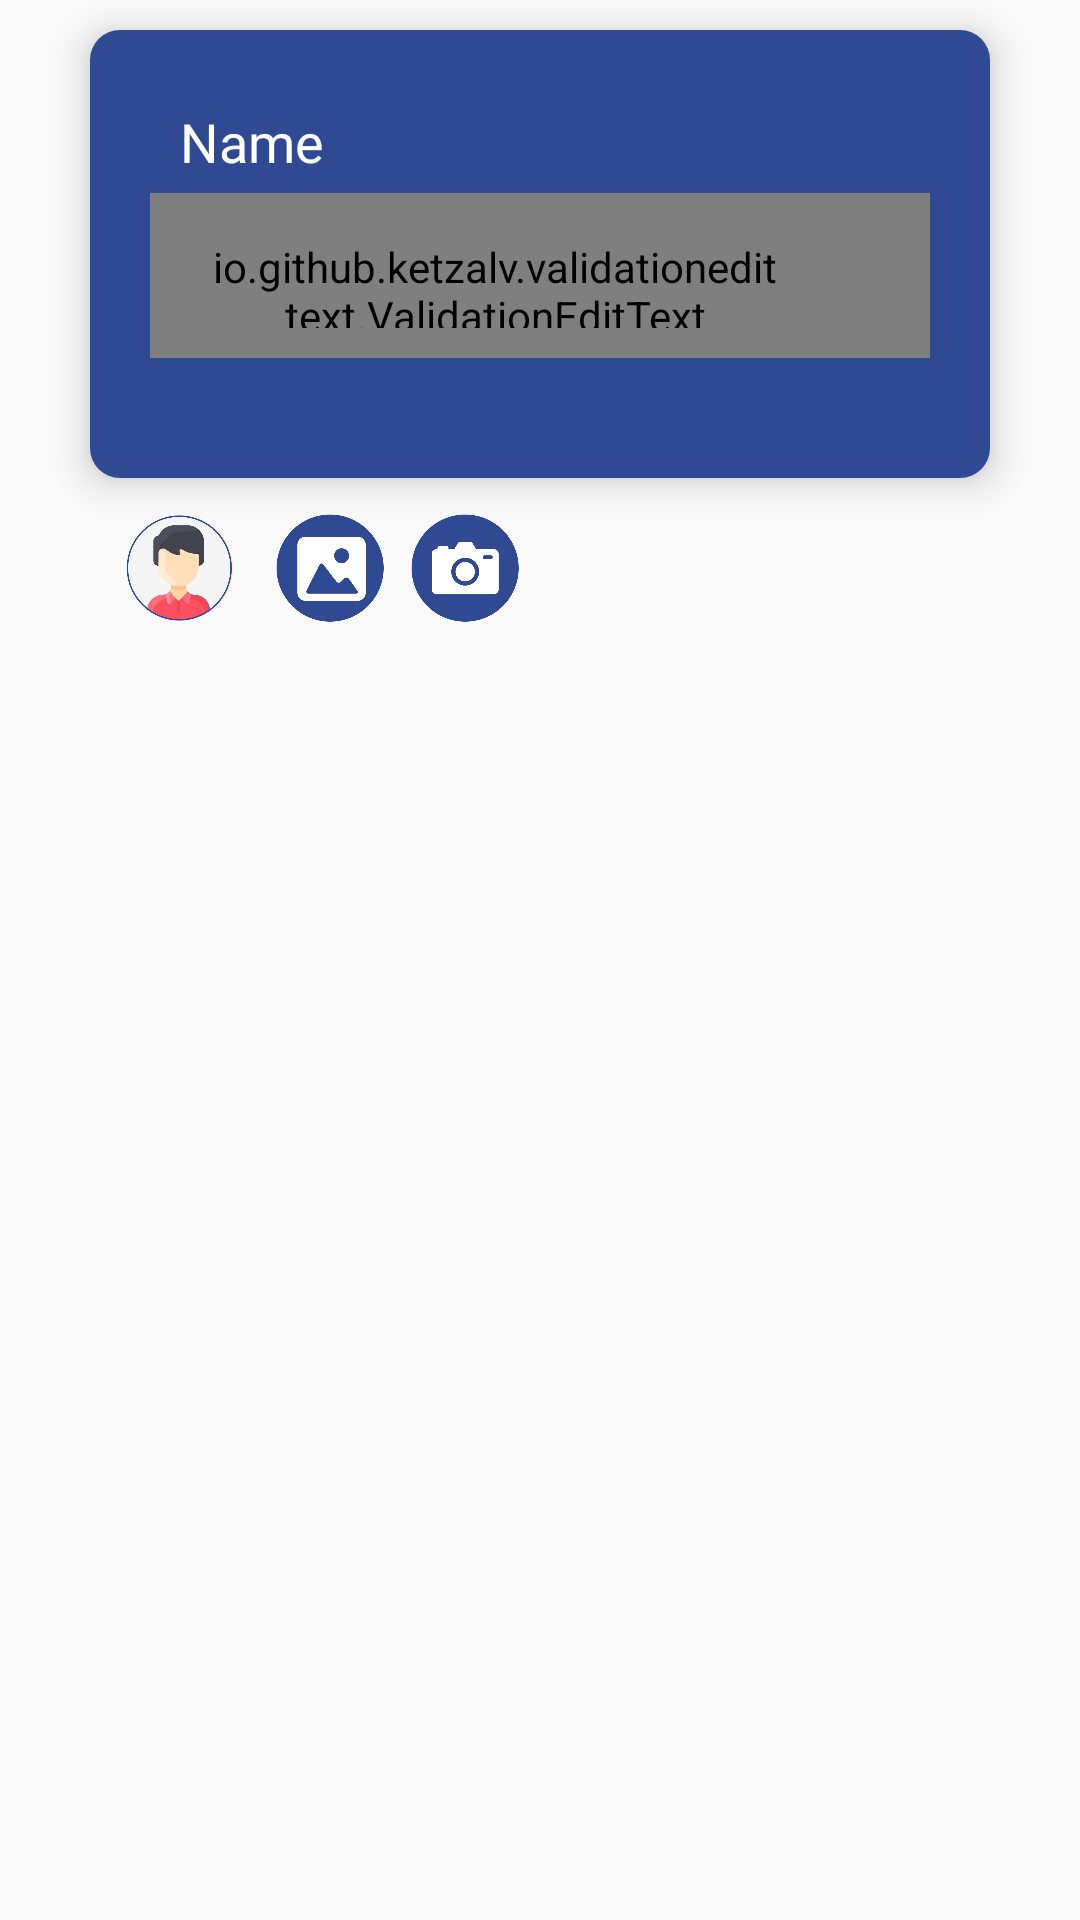

Icons on this 1080px x 1920px Android screen, each with the point to tap as (x=x, y=y):
account: (x=179, y=568)
camera: (x=465, y=568)
gallery: (x=330, y=568)
